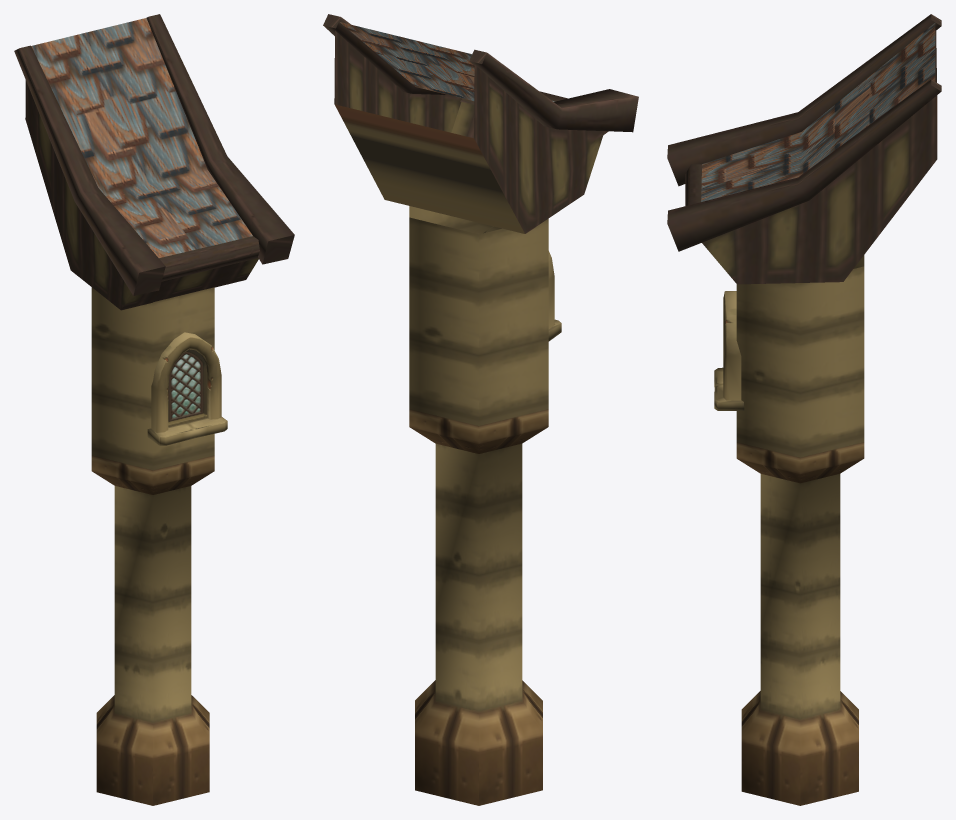
The model's file is external pilar.FBX.
3 renders of one model, left to right at view 1: azimuth 30°, elevation 25°; view 2: azimuth 150°, elevation 25°; view 3: azimuth 270°, elevation 25°, orthographic. The views are drawn at different scales.
Visible parts, largest first — view 1: external pilar; view 2: external pilar; view 3: external pilar.
Boxes of the visible parts, box(x1,y1,x2,y2) form: external pilar: box(14, 14, 294, 805); external pilar: box(323, 14, 638, 805); external pilar: box(667, 14, 941, 805).
Bounding box in the file's own units: 426 × 1836 × 627.
